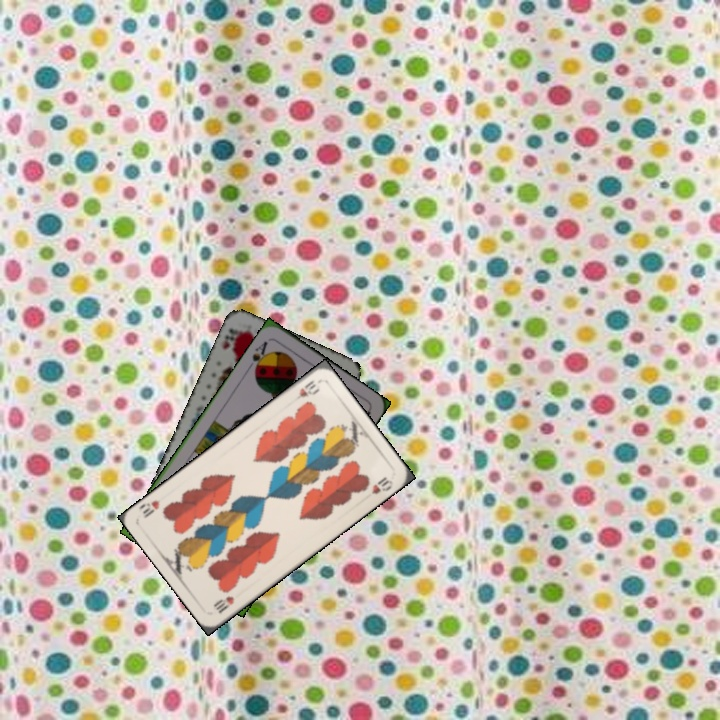H10: (288, 376, 322, 407), (209, 592, 237, 616)
HK: (218, 324, 243, 354)
SA: (248, 337, 273, 376)
